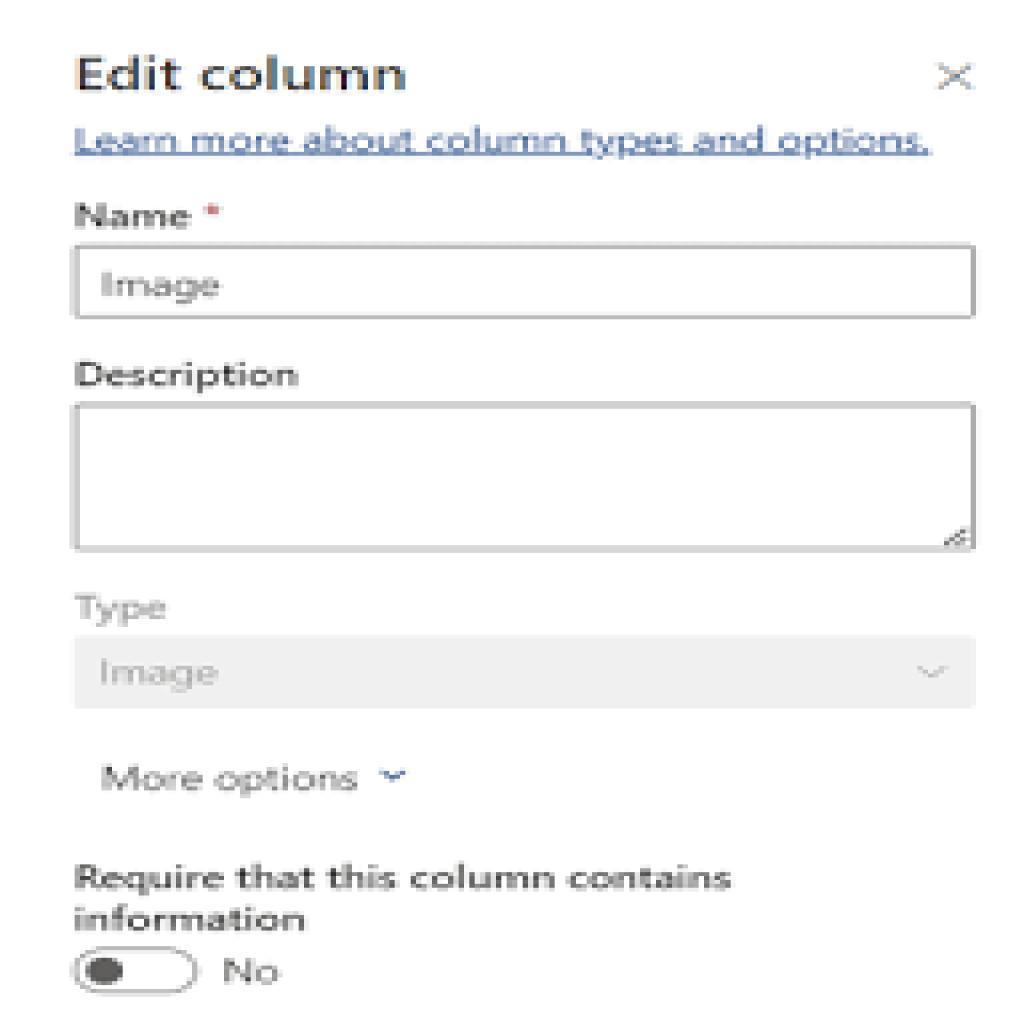dropdown: (71, 636, 975, 711)
input: (79, 248, 971, 319)
label: (73, 851, 743, 931), (73, 39, 408, 93), (70, 354, 305, 392), (69, 194, 219, 234), (73, 588, 180, 628), (218, 949, 283, 988)
switch: (75, 945, 207, 1003)
